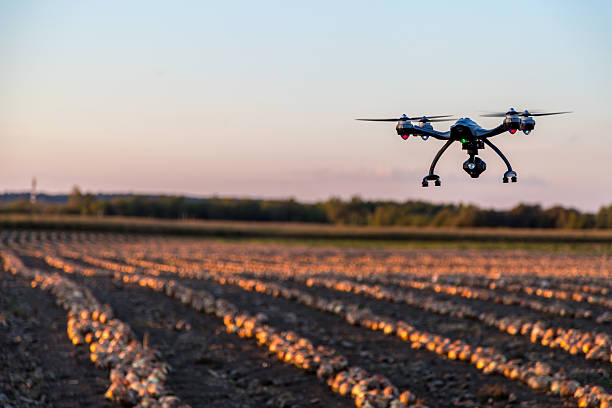Drone: (350, 102, 571, 189)
